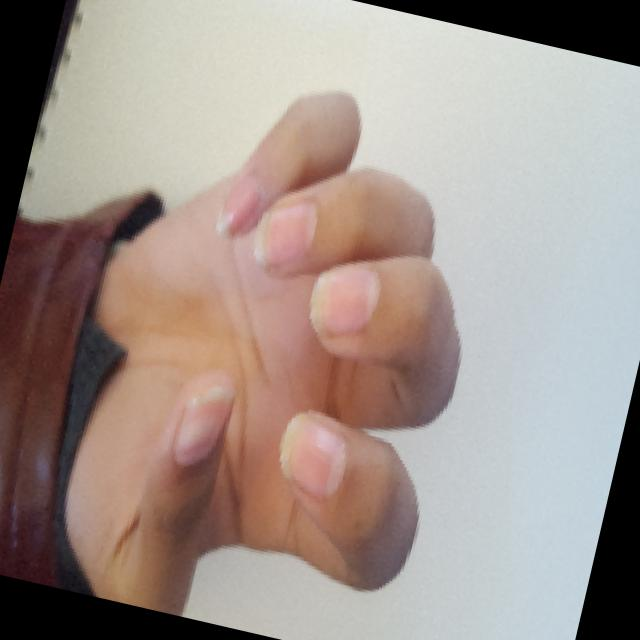Nail: (280, 412, 345, 497), (309, 262, 380, 336), (175, 384, 234, 463), (254, 201, 317, 264), (215, 177, 259, 237)
